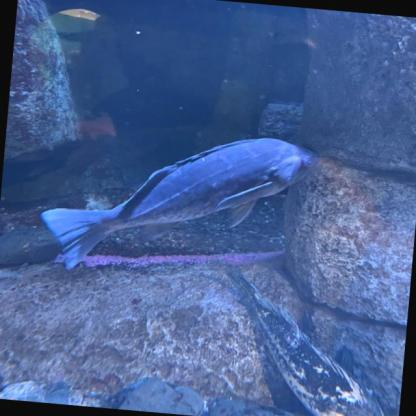fish: (36, 119, 320, 292), (214, 267, 404, 415)
